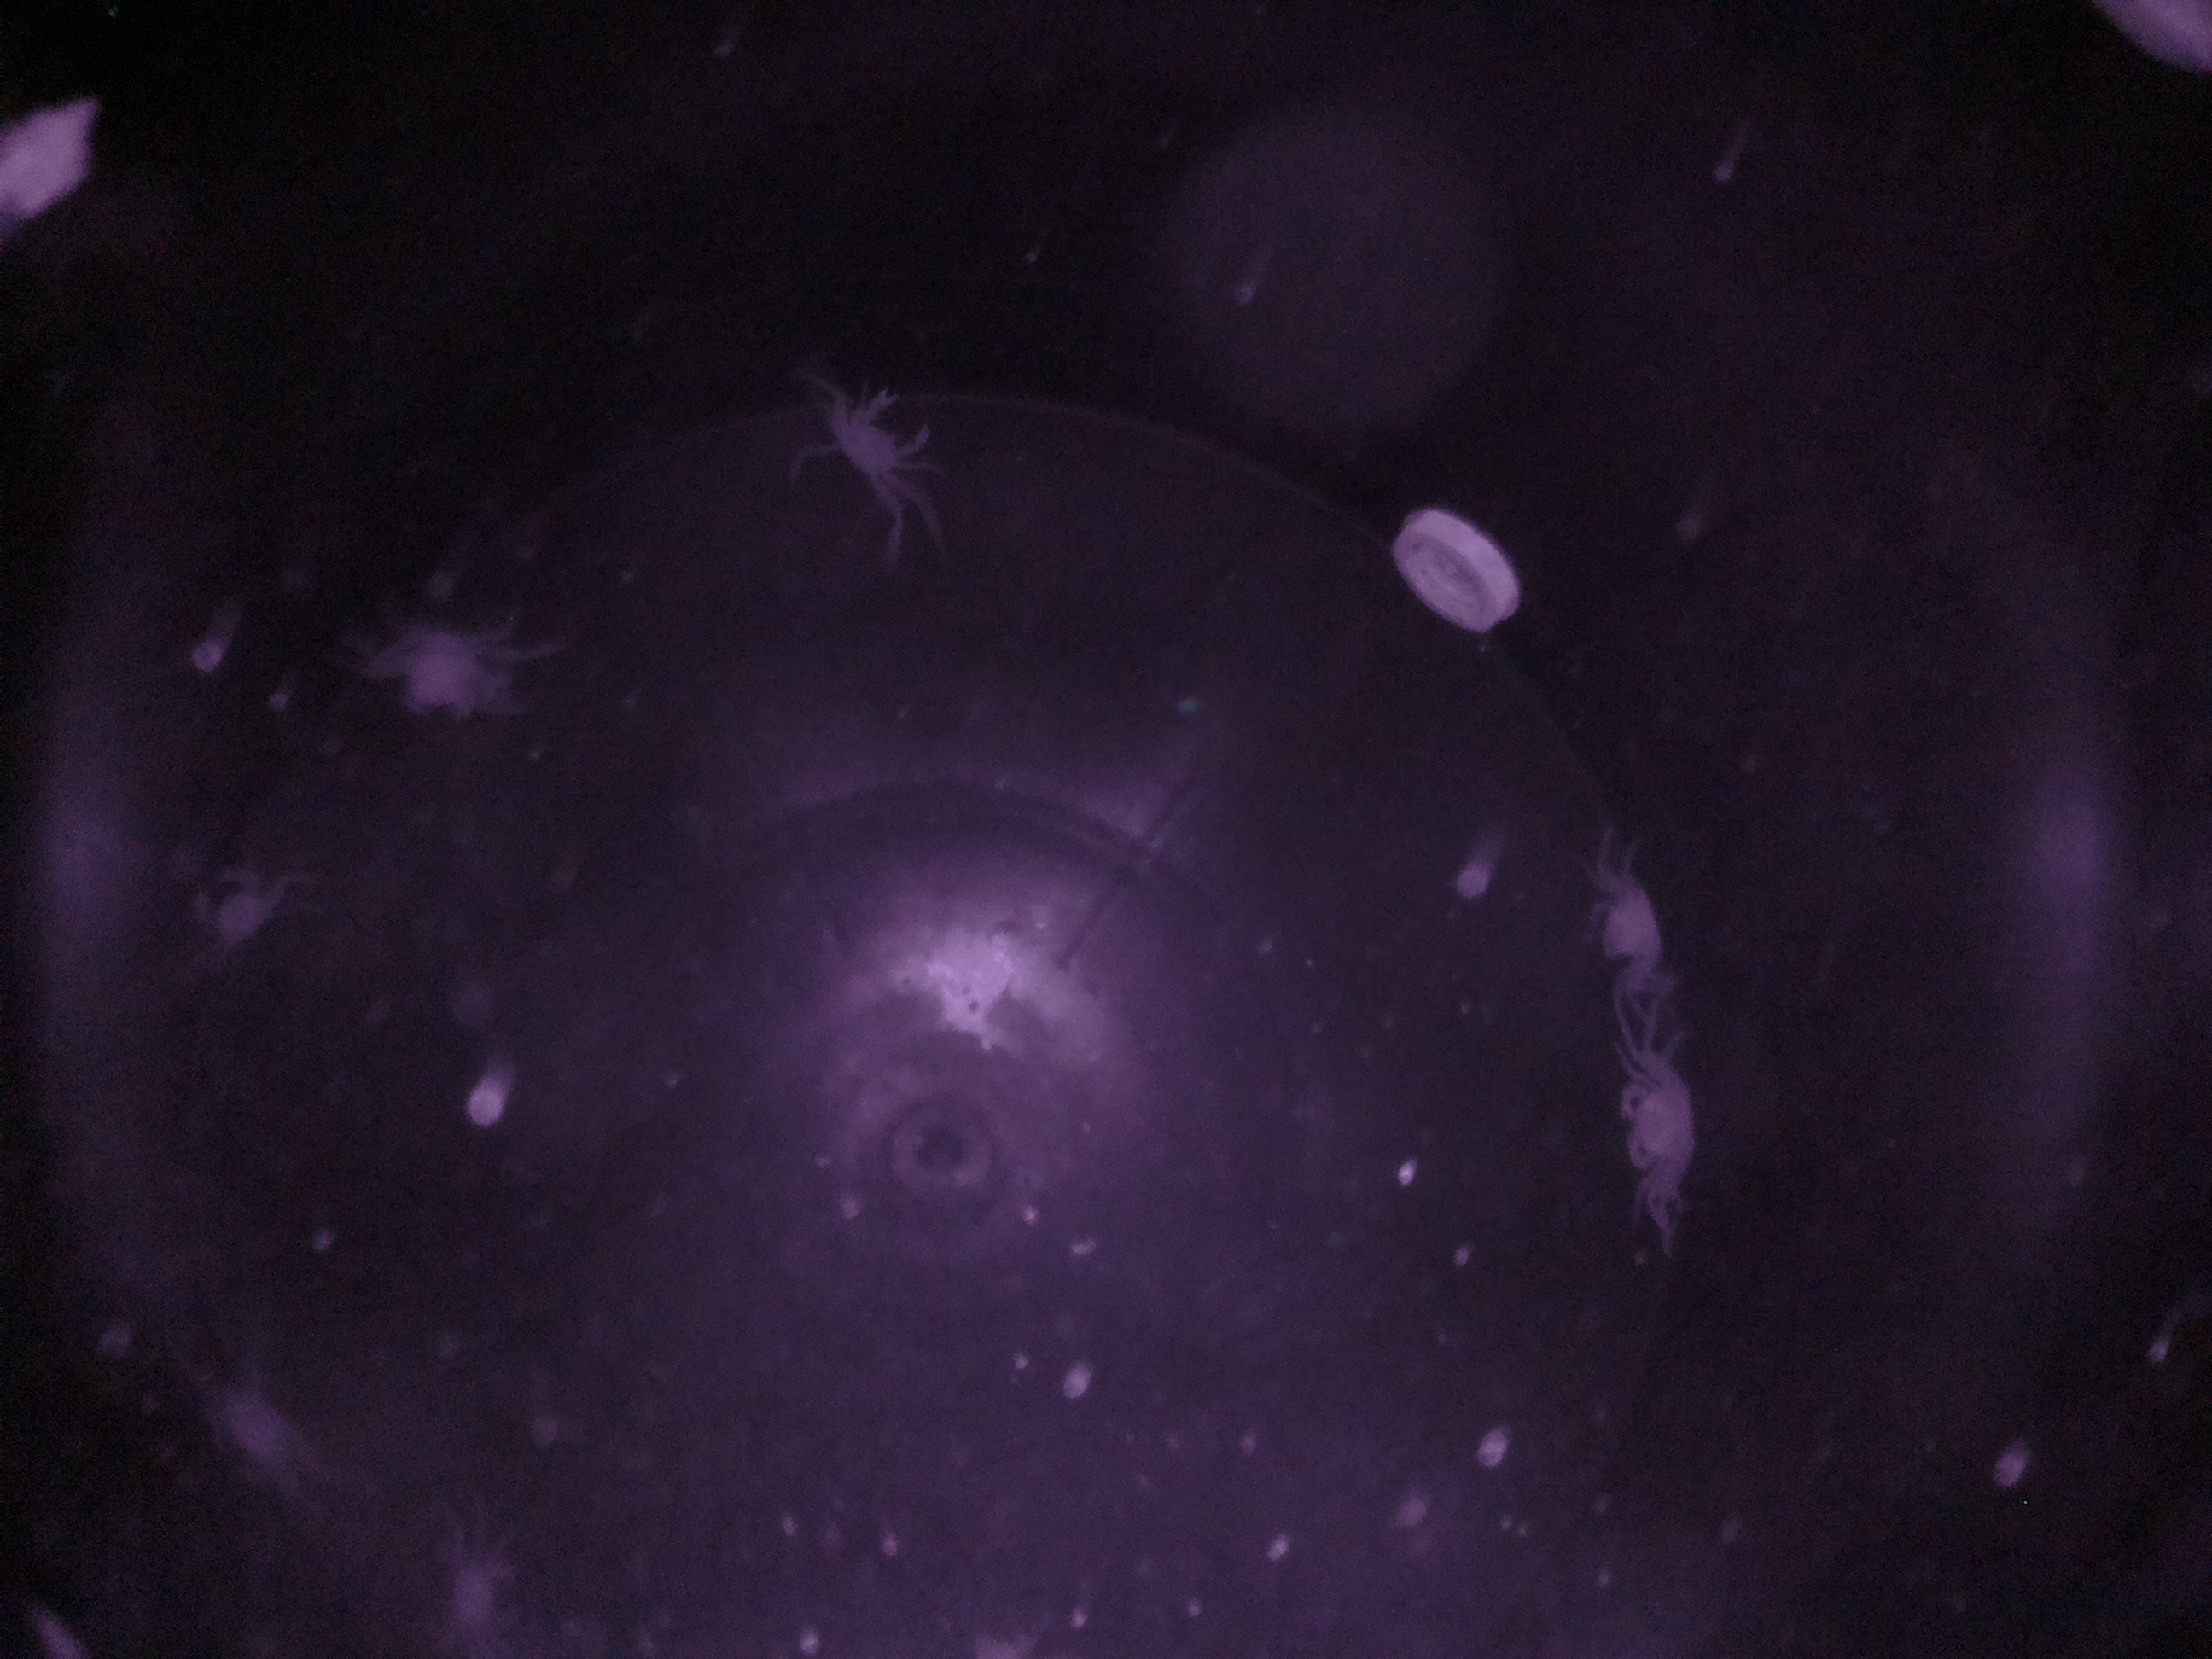Crab: (829, 371, 956, 537), (1595, 1042, 1724, 1192)
